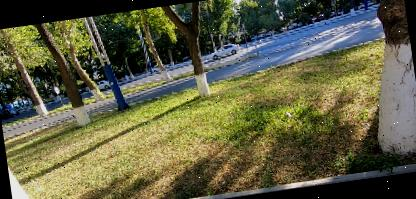car: (206, 38, 243, 62)
tree: (29, 17, 92, 137), (157, 0, 216, 103)
